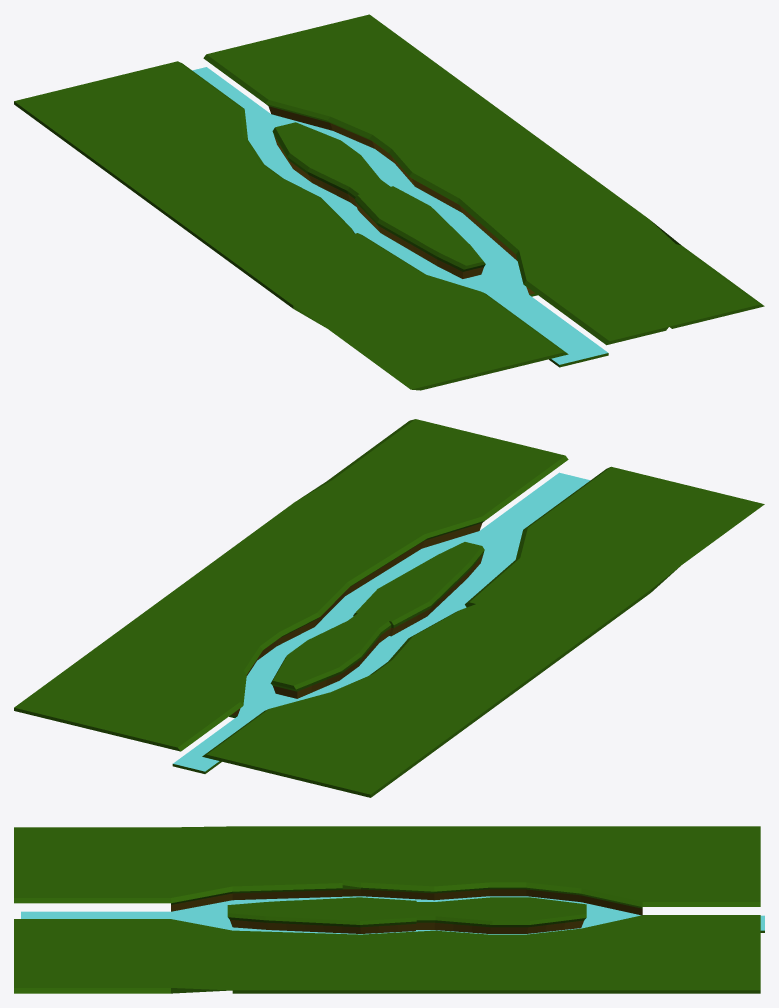
The model's file is Lowpoly_Map_Jungle.fbx.
3 renders of one model, top to bottom at view 1: azimuth 30°, elevation 25°; view 2: azimuth 150°, elevation 25°; view 3: azimuth 270°, elevation 25°, orthographic. The views are drawn at different scales.
Parts seen in each view (by area): view 1: Cube; view 2: Cube; view 3: Cube.
Boxes of the visible parts, x1=… form: Cube: x1=14, y1=14, x2=764, y2=390; Cube: x1=14, y1=419, x2=764, y2=797; Cube: x1=14, y1=826, x2=764, y2=993.
Size of the model in its own units: 13362 by 632 by 25810.
